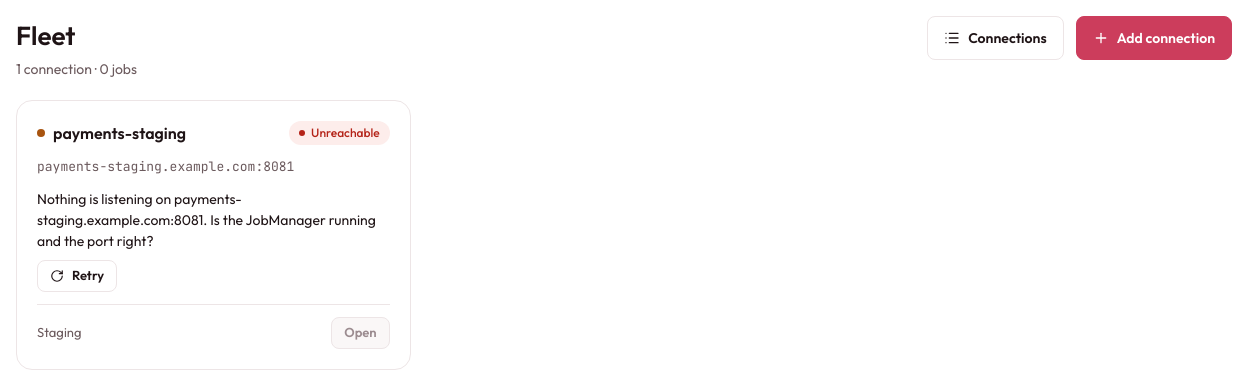
Test: FLEET-01 the fleet (boards D04, D04b, D04c, D04d) › an unreachable cluster keeps its card: the catalog message and Retry (D04b)
Expected: the text "Unreachable" is shown, left=289, top=121, right=390, bottom=145
Expected: the list item "payments-staging" shows "payments-staging.example.com", left=37, top=158, right=294, bottom=175
Click the button with aria-label "Retry payments-staging": x=77, y=276 left=37, top=260, right=117, bottom=292
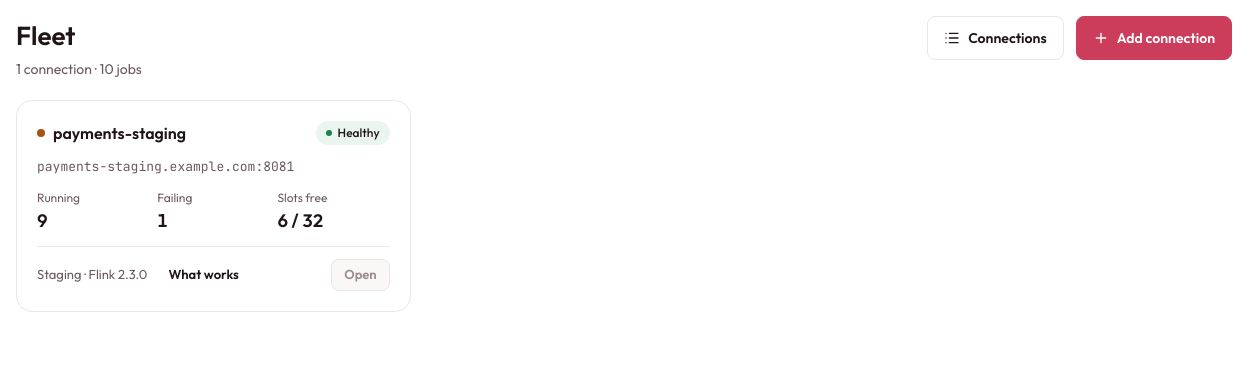
Expected: the text "Healthy" is shown, left=316, top=121, right=390, bottom=145
